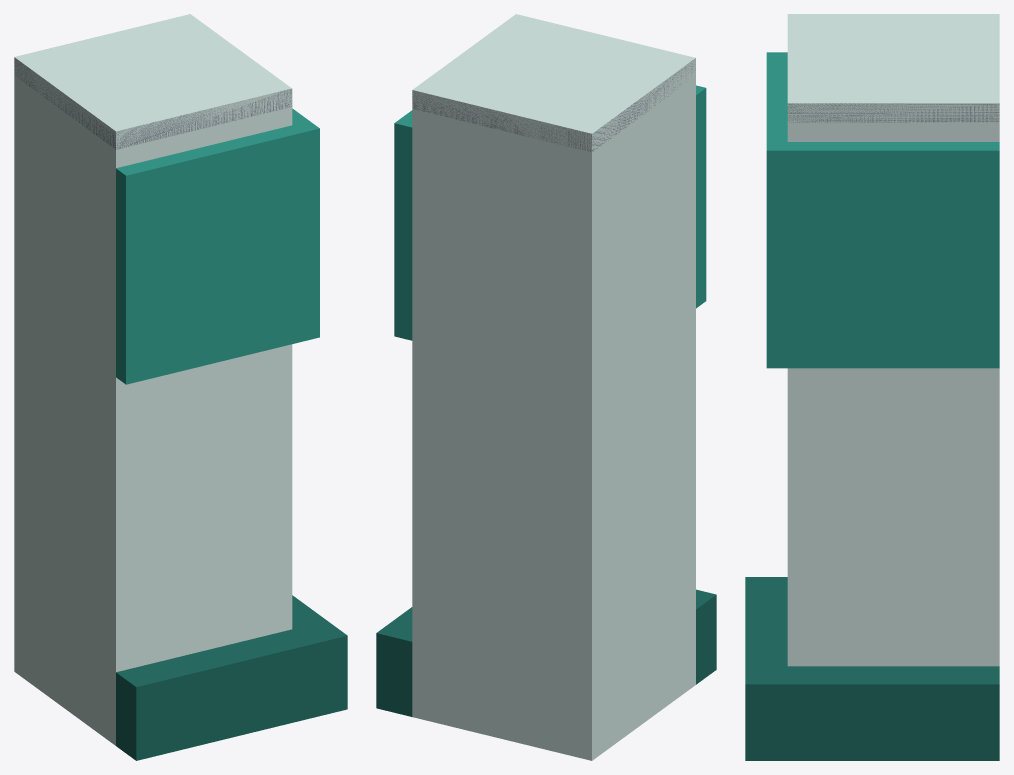
Rendered from wall-corner.glb.
3 renders of one model, left to right at view 1: azimuth 30°, elevation 25°; view 2: azimuth 150°, elevation 25°; view 3: azimuth 270°, elevation 25°, orthographic. The views are drawn at different scales.
Visible parts, largest first — view 1: wall-corner; view 2: wall-corner; view 3: wall-corner.
Boxes of the visible parts, bbox=[...] form: wall-corner: bbox=[14, 14, 347, 760]; wall-corner: bbox=[376, 14, 716, 760]; wall-corner: bbox=[745, 14, 999, 760].
Size of the model in its own units: 0.18 by 0.5 by 0.18.
Materials: 1 (1 with a texture image).
